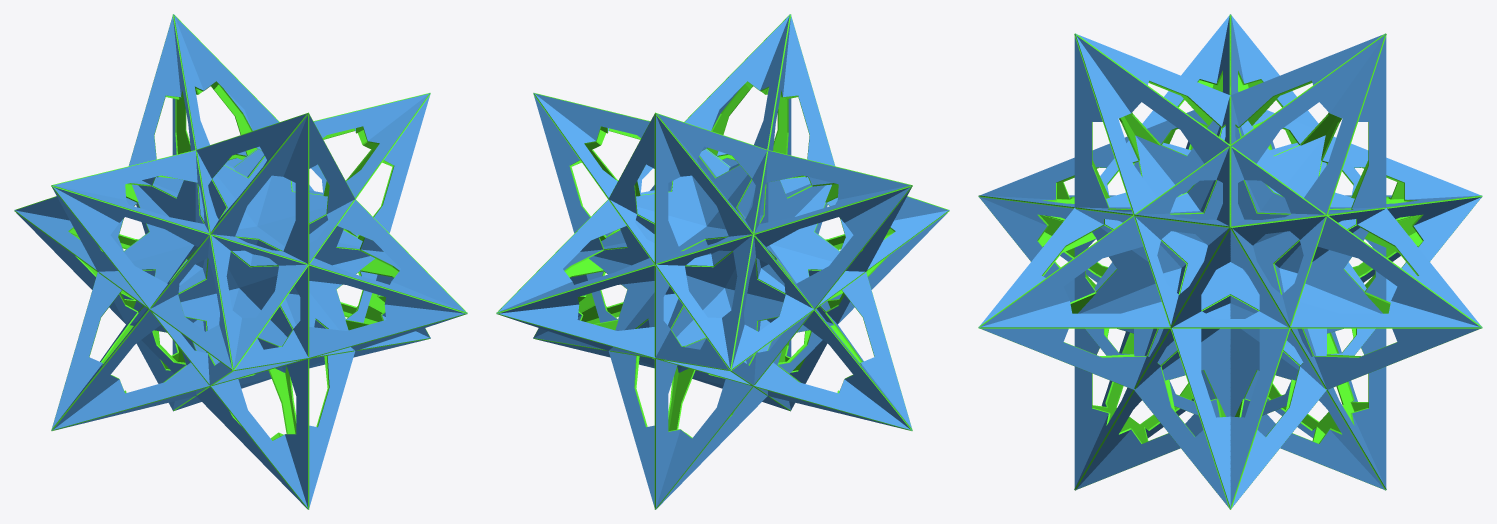
Rendered from GreatIcosahedronS1.glb.
3 renders of one model, left to right at view 1: azimuth 30°, elevation 25°; view 2: azimuth 150°, elevation 25°; view 3: azimuth 270°, elevation 25°, orthographic. The views are drawn at different scales.
Parts seen in each view (by area): view 1: Mesh_0.004; view 2: Mesh_0.004; view 3: Mesh_0.004.
Part boxes in pixels (x1,y1,x2,y2): Mesh_0.004: (14,14,467,509); Mesh_0.004: (496,14,949,509); Mesh_0.004: (978,14,1482,509).
Bounding box in the file's own units: 7.5 × 7.5 × 7.5.
